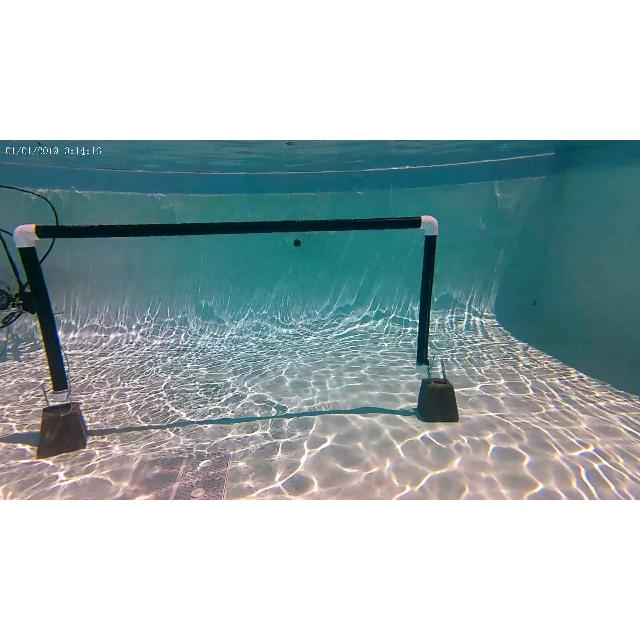prequal gate: (14, 214, 438, 402)
prequal gate leg l: (13, 216, 73, 400)
prequal gate leg r: (410, 214, 440, 374)
